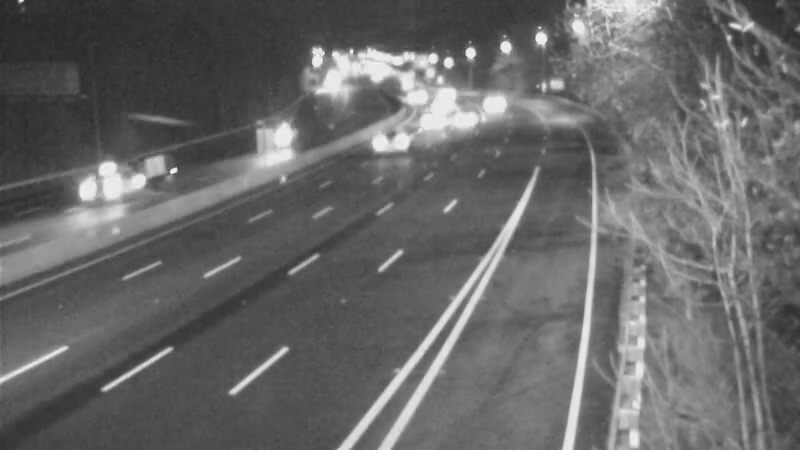vehicle: (62, 147, 142, 227), (422, 68, 472, 118), (392, 70, 442, 120), (467, 77, 517, 127), (414, 82, 464, 132), (436, 96, 486, 146), (407, 98, 457, 148), (367, 119, 417, 169), (254, 111, 304, 161)
